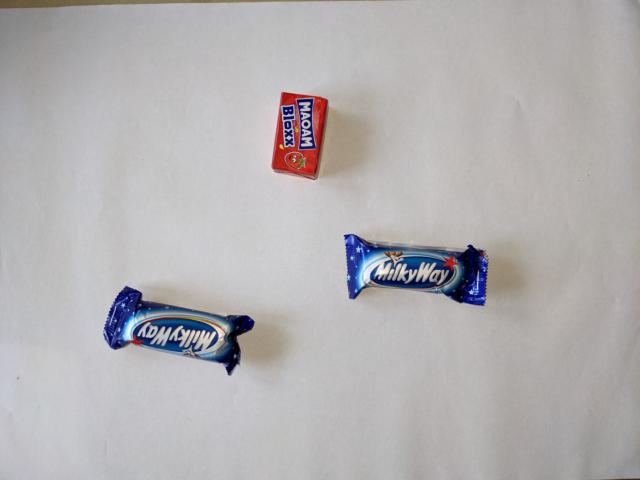MAOAM: (269, 90, 331, 183)
MilkyWay: (100, 284, 256, 378), (340, 230, 492, 310)
